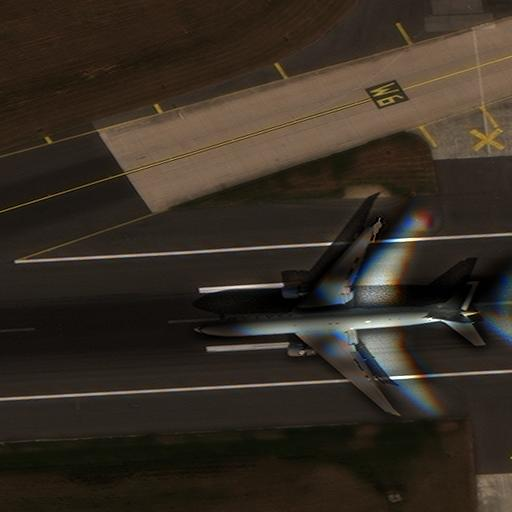Large Civil Transport: (194, 217, 479, 415)
